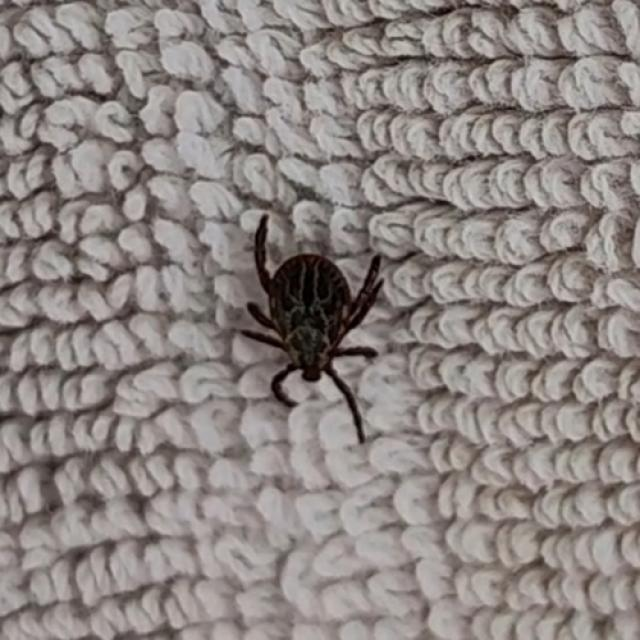Dermacentor Reticulatus-M: (241, 214, 384, 444)
